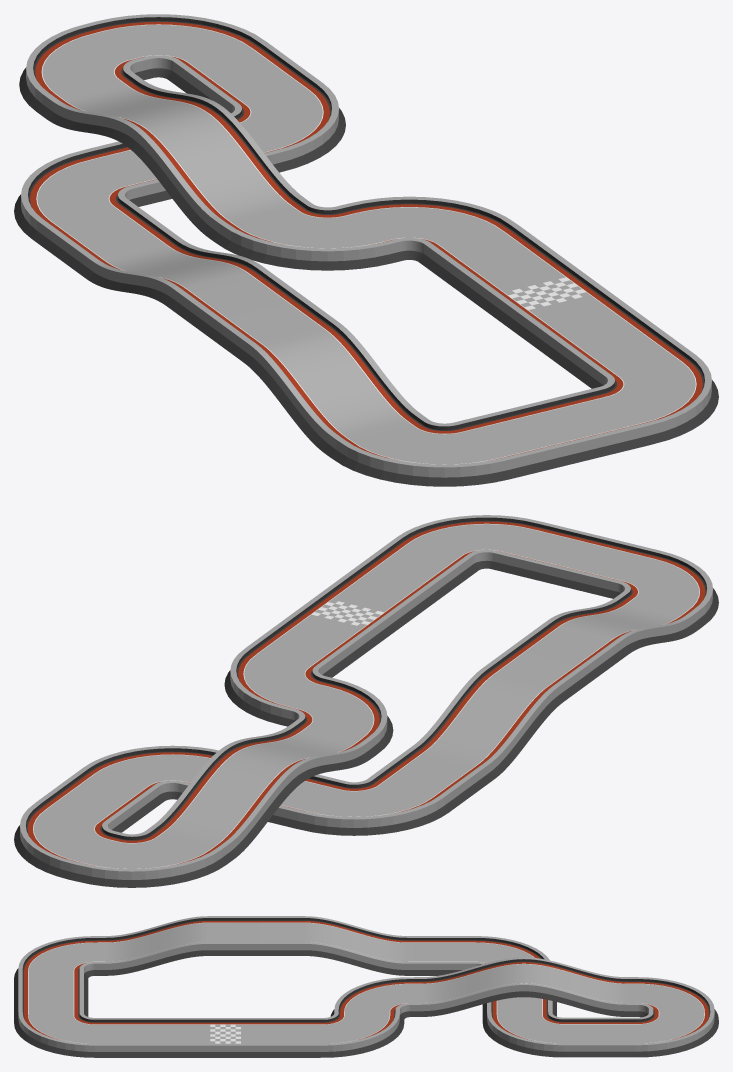
Rendered from track.fbx.
The picture shows the model from 3 angles, top to bottom: view 1: azimuth 30°, elevation 25°; view 2: azimuth 150°, elevation 25°; view 3: azimuth 270°, elevation 25°; orthographic projection. The views are drawn at different scales.
Visible parts, largest first — view 1: track; view 2: track; view 3: track.
Boxes of the visible parts, <box> form: track: <box>14,14,718,486</box>; track: <box>14,515,718,887</box>; track: <box>14,916,718,1057</box>.
Bounding box in the file's own units: 61.21 × 7.6 × 161.
